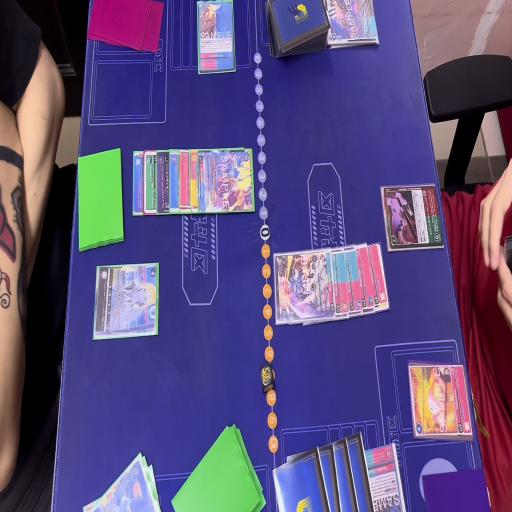card: (94, 260, 161, 343), (81, 449, 159, 512), (274, 248, 334, 328), (408, 363, 470, 440), (384, 183, 441, 255), (199, 146, 254, 214), (197, 0, 236, 79), (367, 439, 404, 512), (327, 0, 375, 48), (369, 241, 393, 315), (356, 246, 378, 316), (344, 244, 364, 312), (132, 149, 146, 217), (156, 152, 170, 217), (333, 248, 346, 318), (144, 150, 157, 217), (179, 150, 189, 216), (170, 149, 179, 214), (188, 149, 196, 213)
